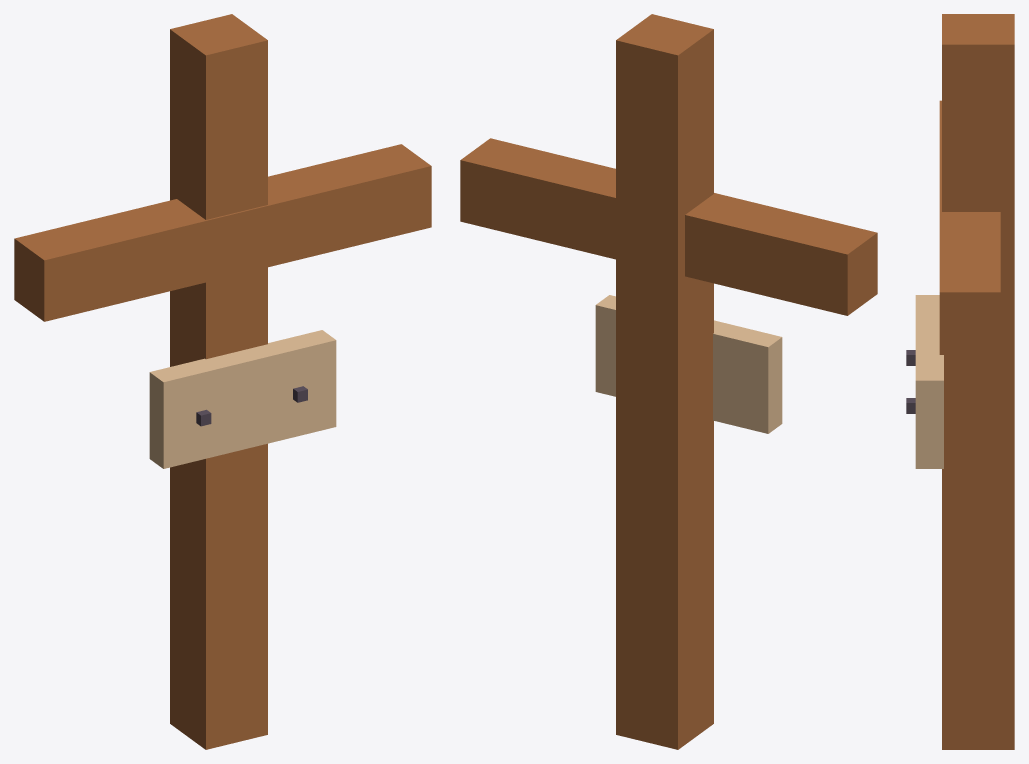
3 renders of one model, left to right at view 1: azimuth 30°, elevation 25°; view 2: azimuth 150°, elevation 25°; view 3: azimuth 270°, elevation 25°, orthographic.
Visible parts, largest first — view 1: body; view 2: body; view 3: body.
Part boxes in pixels (bbox=[...]): body: bbox=[14, 14, 431, 749]; body: bbox=[460, 14, 877, 749]; body: bbox=[906, 14, 1014, 749].
Bounding box in the file's own units: 0.56 × 0.96 × 0.134.
